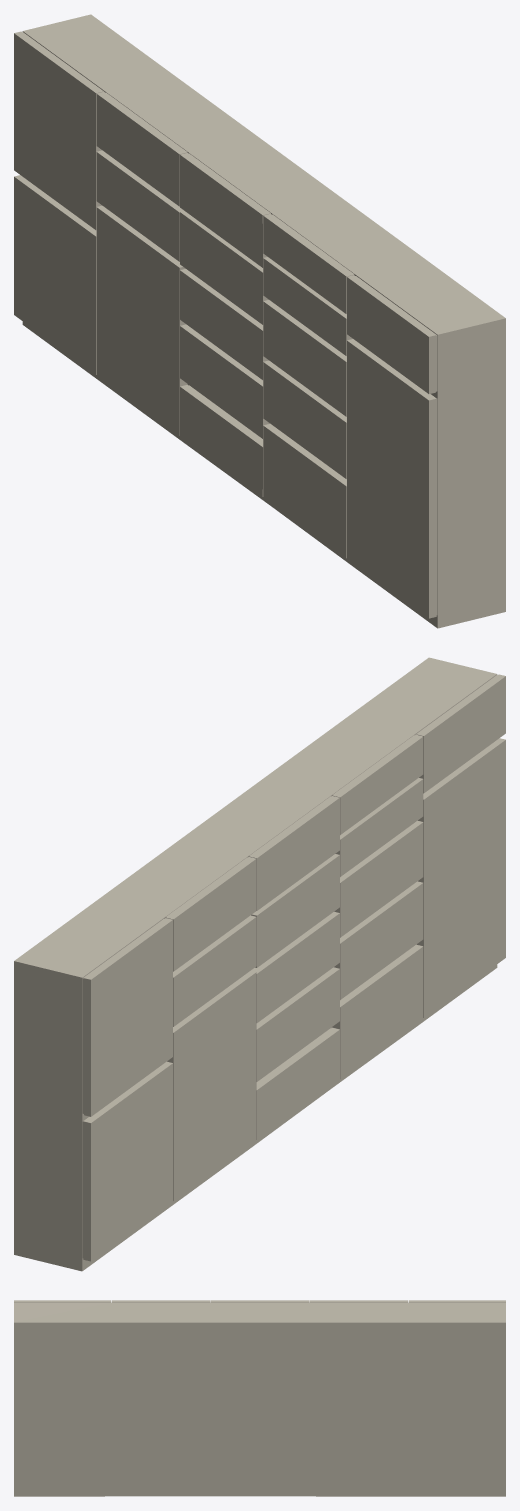
File: langer_Schrank.glb
3 renders of one model, top to bottom at view 1: azimuth 30°, elevation 25°; view 2: azimuth 150°, elevation 25°; view 3: azimuth 270°, elevation 25°, orthographic. The views are drawn at different scales.
Parts seen in each view (by area): view 1: langer Schrank; view 2: langer Schrank; view 3: langer Schrank.
Boxes of the visible parts, <box> form: langer Schrank: <box>14,14,505,628</box>; langer Schrank: <box>14,657,505,1271</box>; langer Schrank: <box>14,1300,505,1496</box>.
Bounding box in the file's own units: 0.776 × 2.83 × 7.24.
